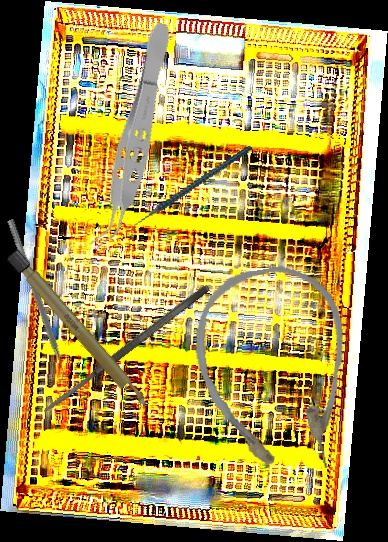Cannula: (182, 257, 368, 487)
Chopper: (113, 145, 267, 239)
Scalpel Handle: (4, 246, 153, 414)
Spatula Surgical: (38, 282, 213, 417), (0, 218, 72, 384)
Tissue Forceps: (87, 18, 181, 254)
